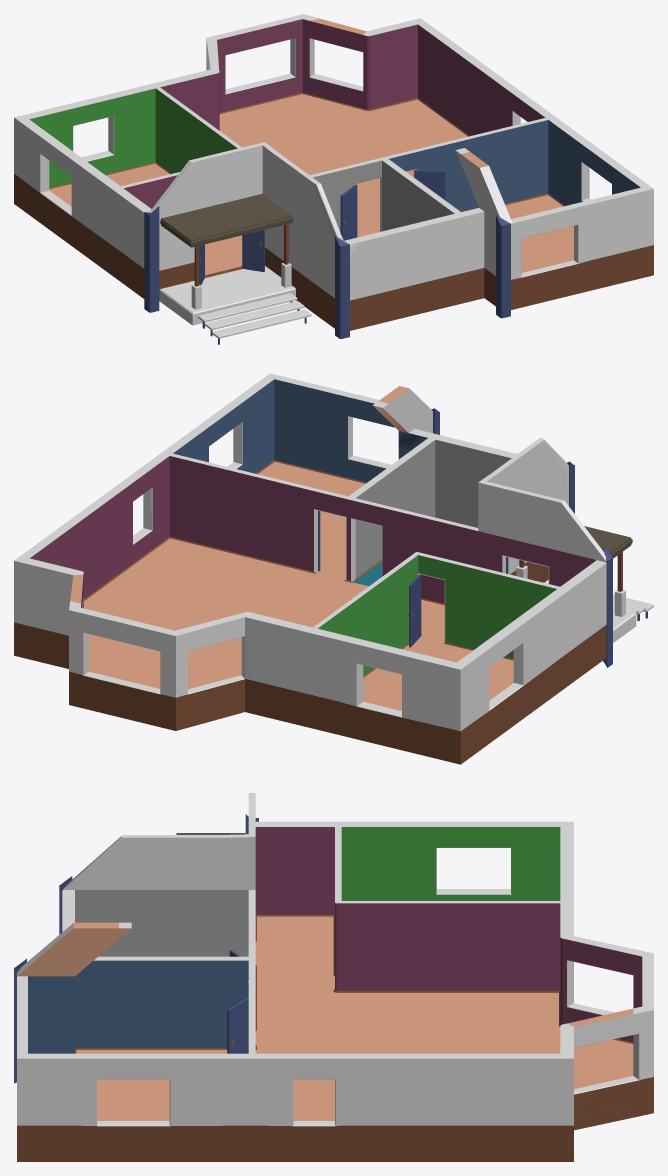
The model's file is House.fbx.
3 views of the same model, one above another, from view 1: azimuth 30°, elevation 25°; view 2: azimuth 150°, elevation 25°; view 3: azimuth 270°, elevation 25° (orthographic). The views are drawn at different scales.
Visible parts, largest first — view 1: House; view 2: House; view 3: House.
Boxes of the visible parts, x1,y1,x2,y2 form: House: (14,14,653,344); House: (14,373,653,764); House: (14,793,653,1161).
Size of the model in its own units: 22.28 by 7.25 by 25.32.
